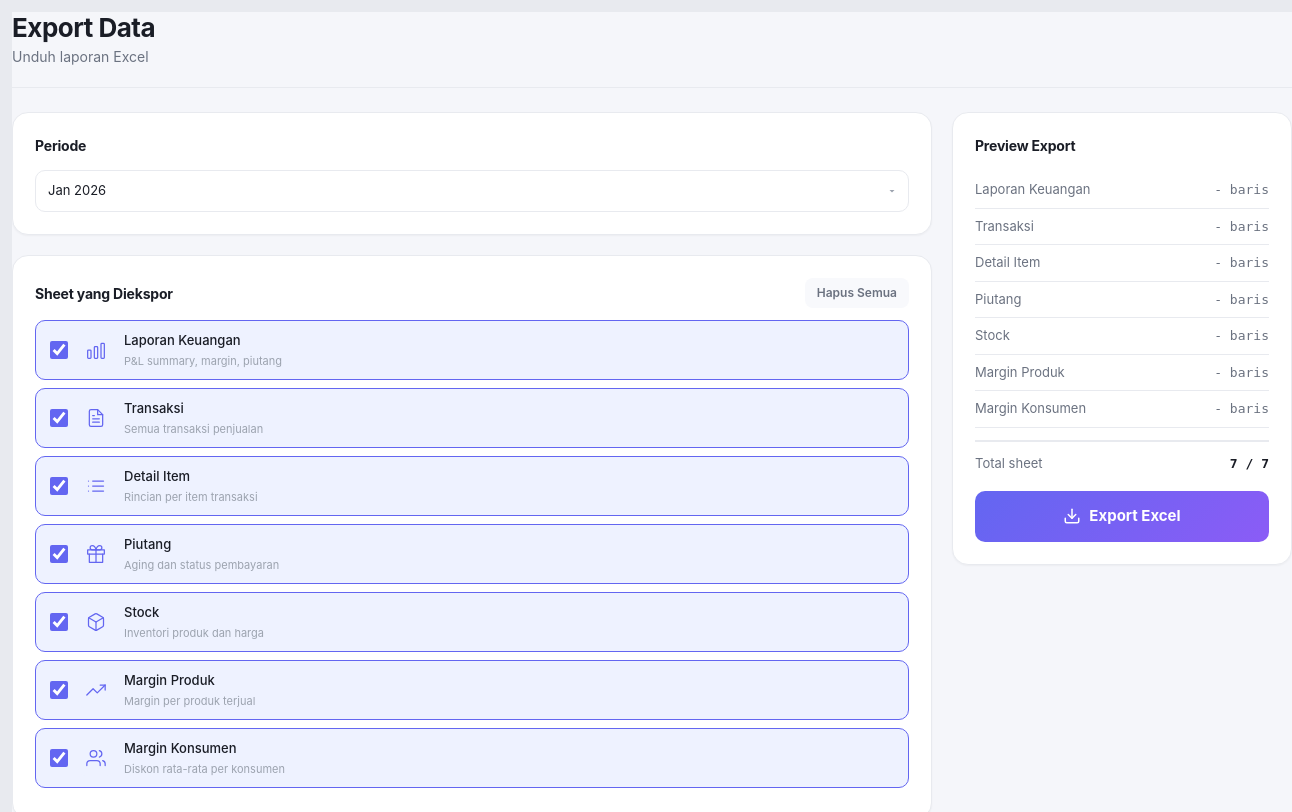
Test case: ExportClient — EXPRT-01: loading spinner › shows spinner element during export
Step 1. Click the button "Export Excel" → (1122, 516), box 975,491 -> 1269,542
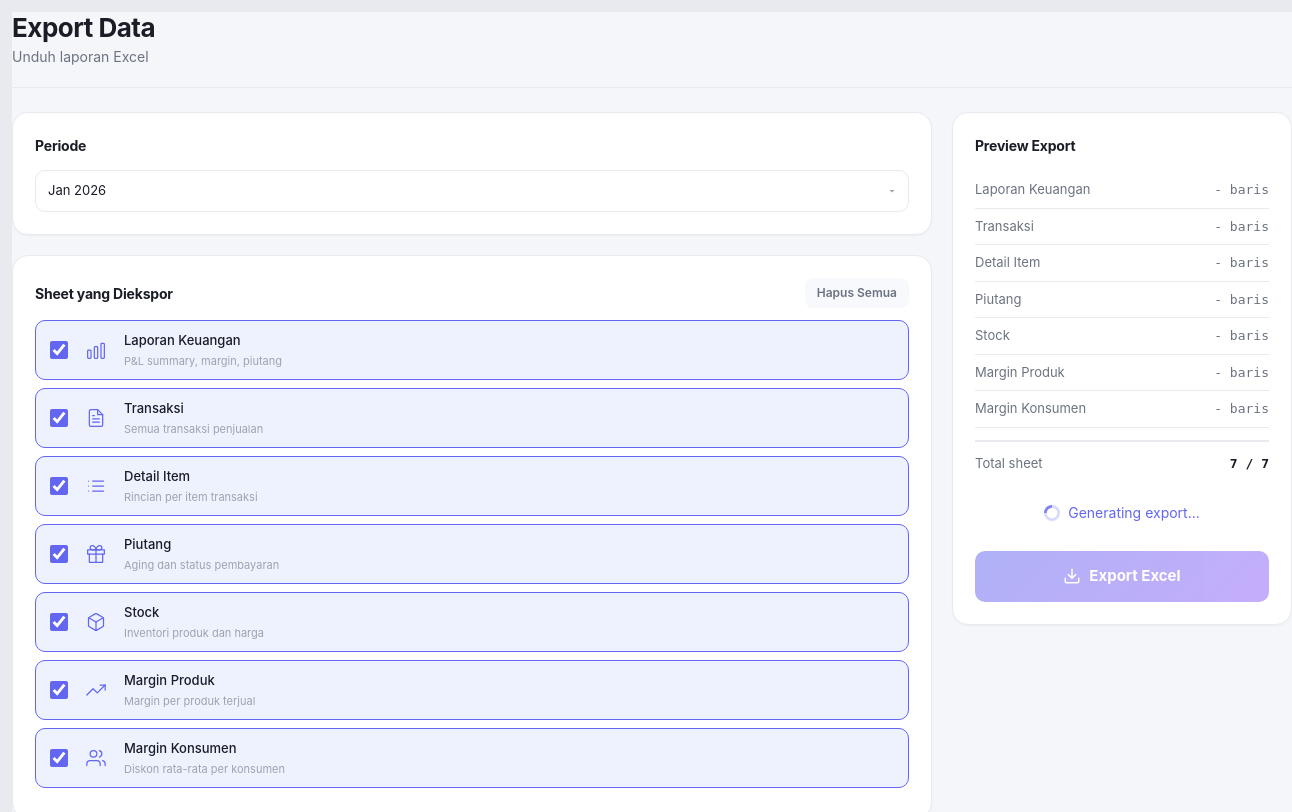
Result: the element with test id "export-spinner" is shown at 1044,504 -> 1200,521
